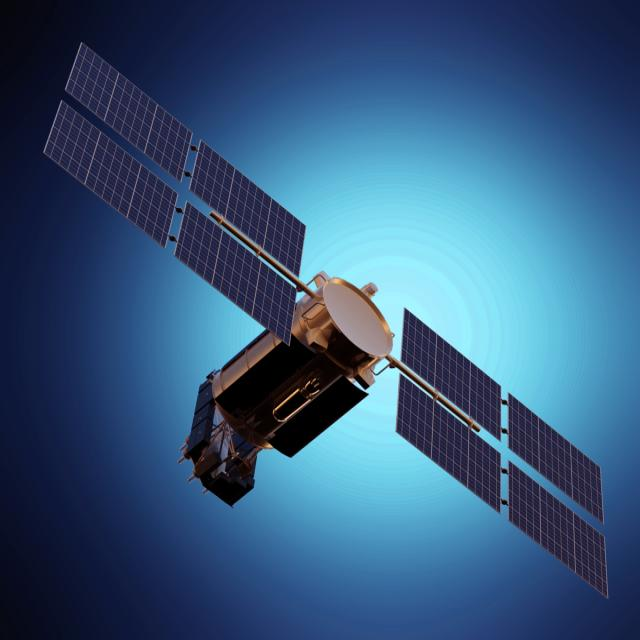satellite: (37, 28, 616, 612)
